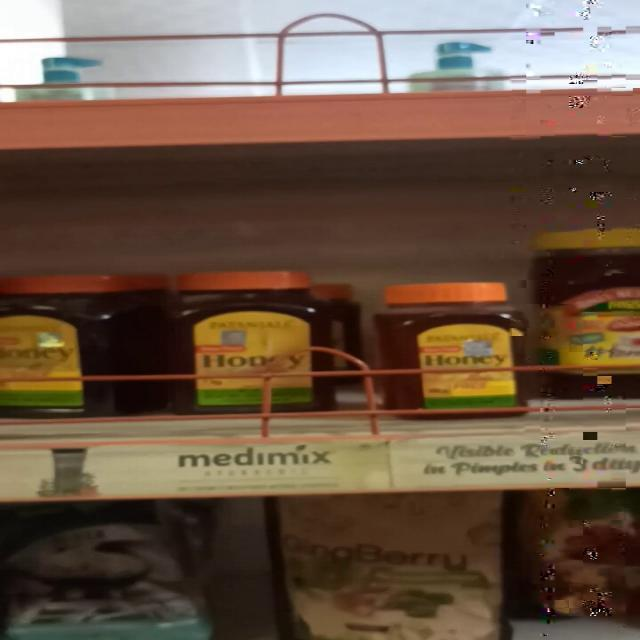Patanjali Honey: (175, 268, 326, 418), (388, 278, 536, 417)
